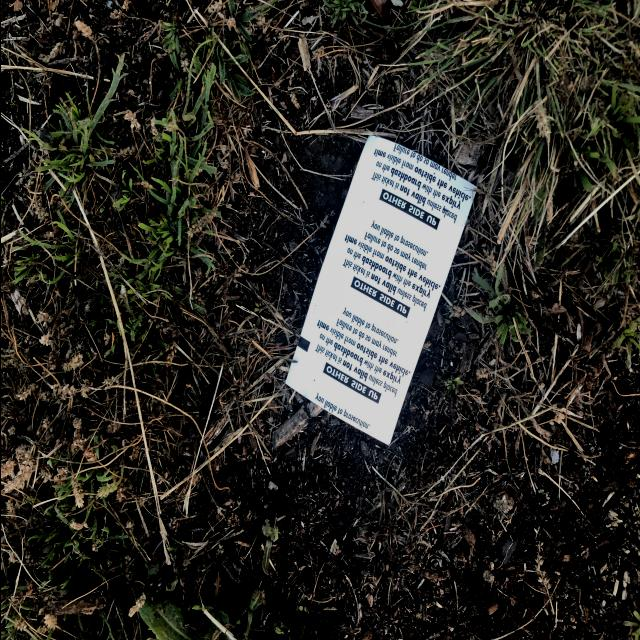Normal paper: (284, 135, 477, 446)
